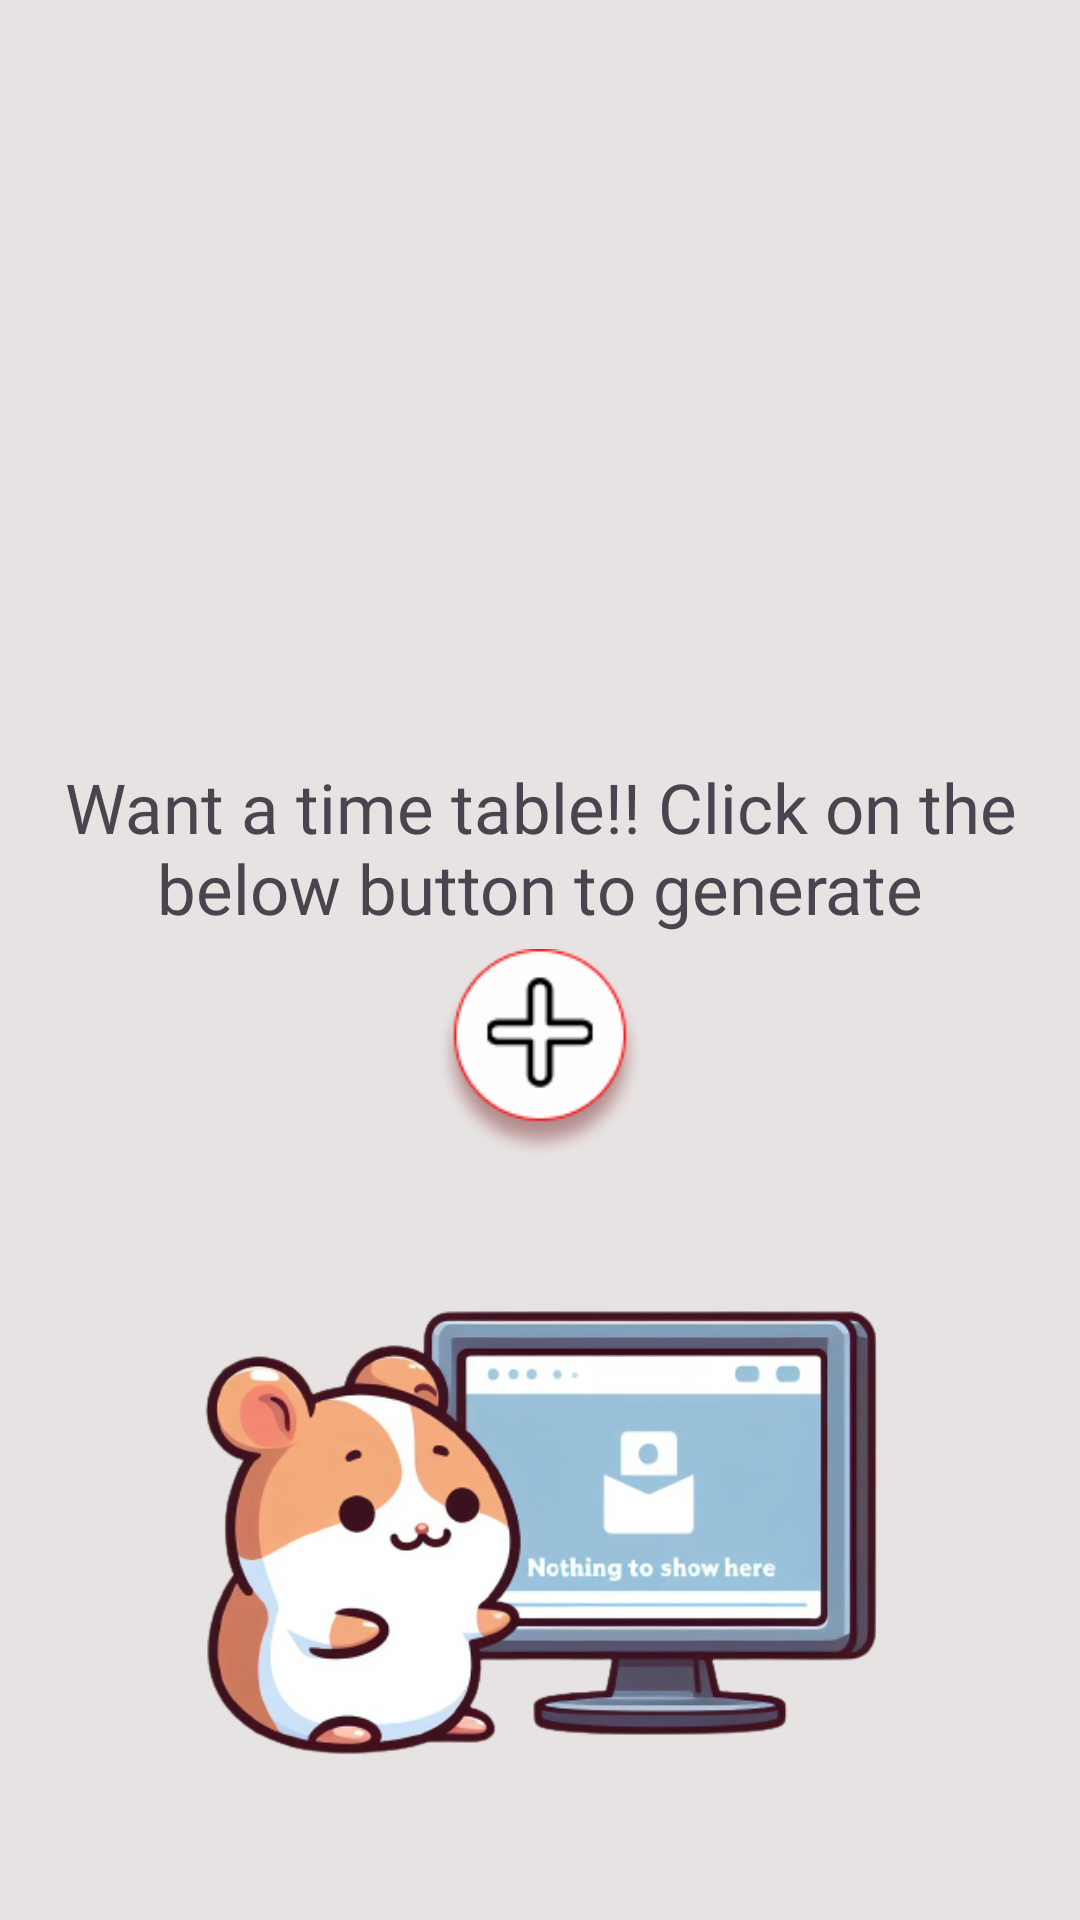

Where to tap for icons on this 1080w x 1920h app screen, as point (x, y):
add: point (540, 1047)
